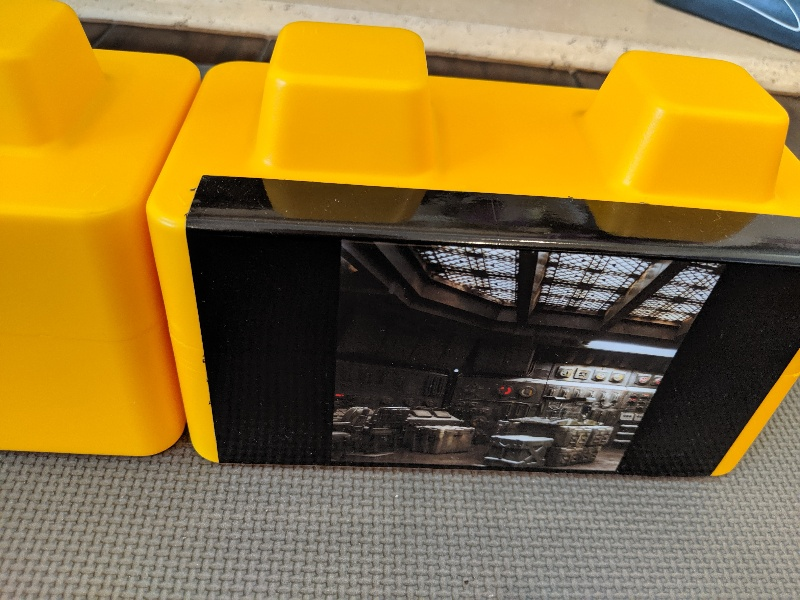Skystone: (174, 160, 800, 490)
